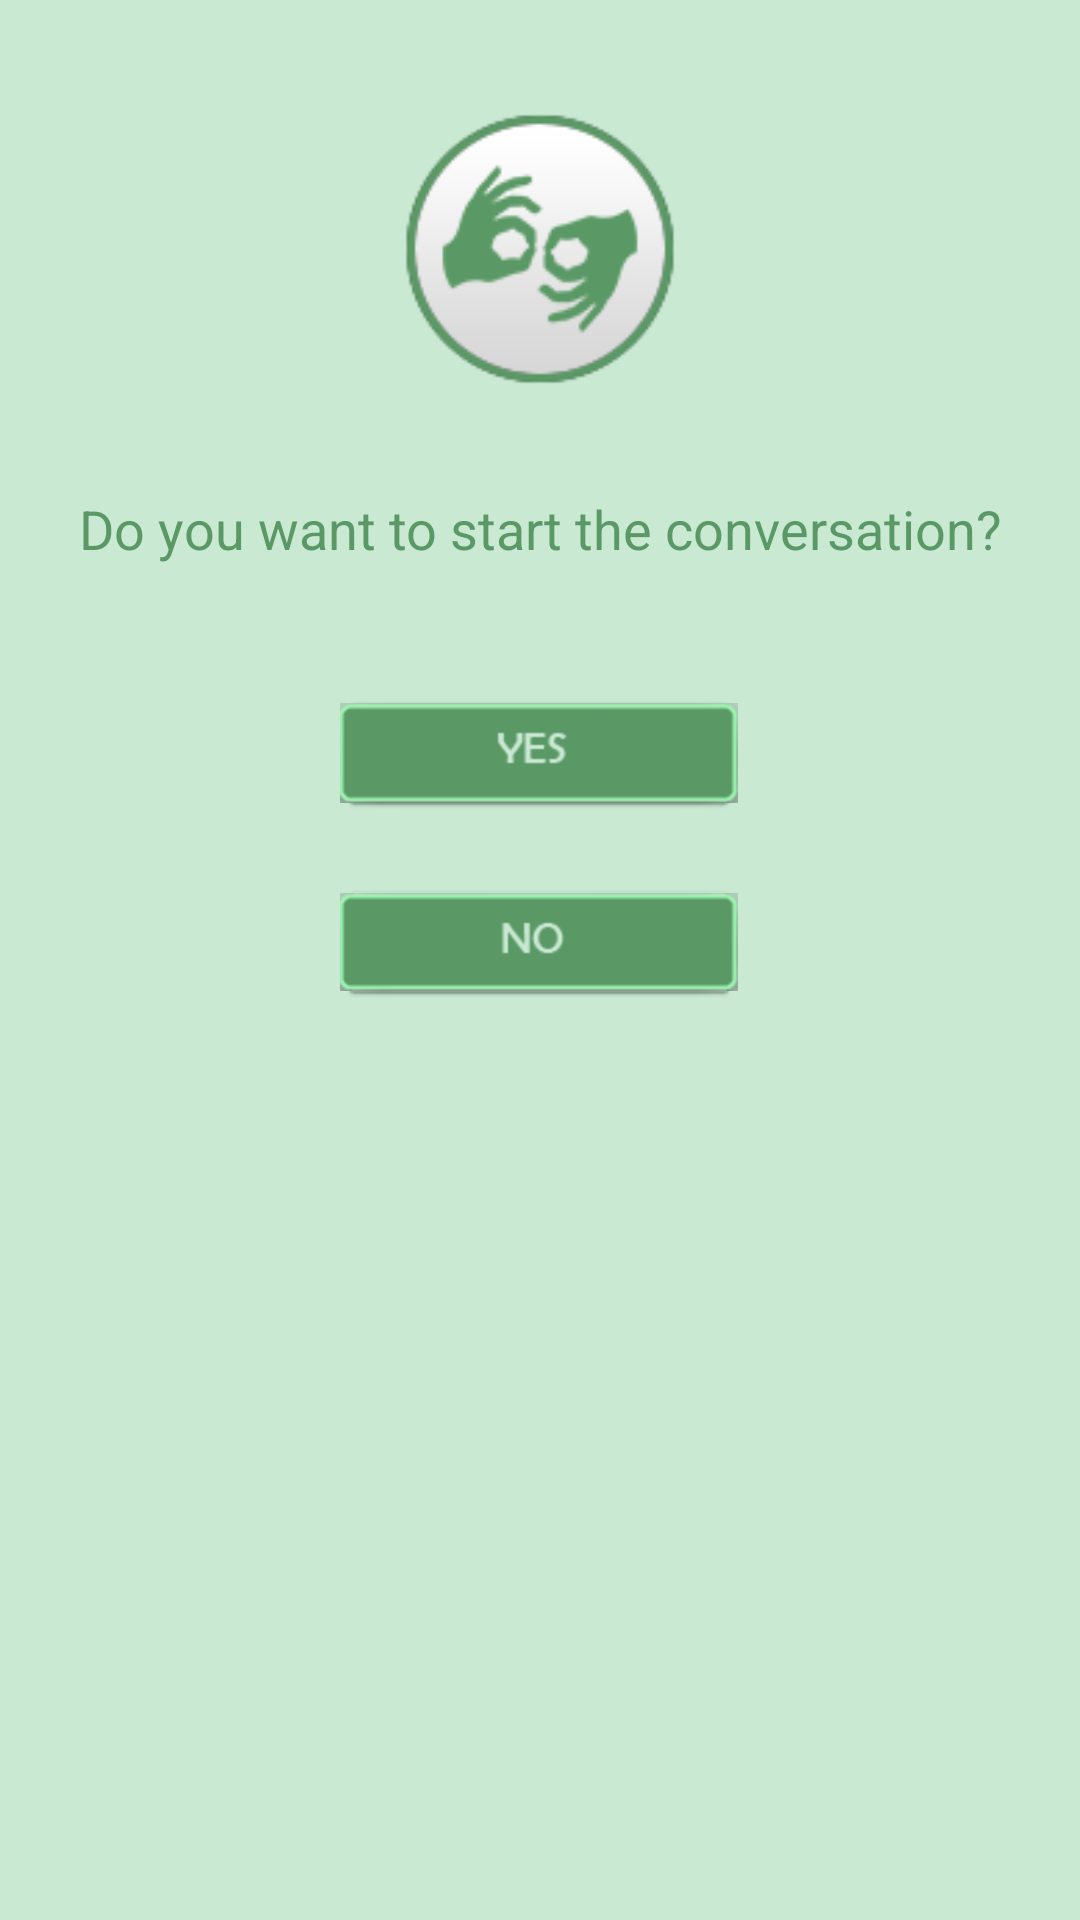

Icons on this 1080w x 1920h Android screen, each with its box as (x1, y1, x2, y2):
gesture: (406, 115, 674, 383)
